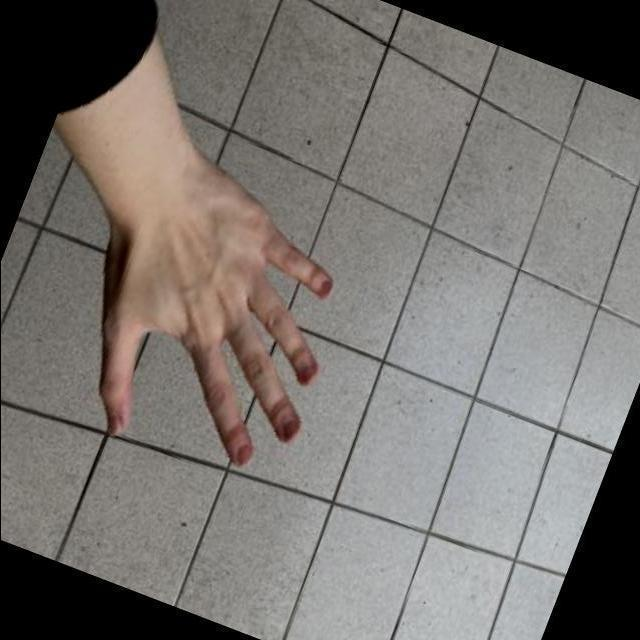hand: (19, 100, 400, 514)
